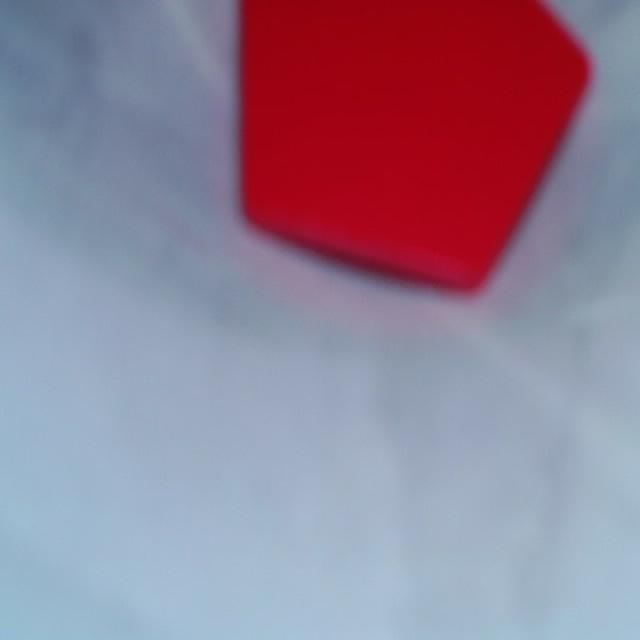pentagon: (241, 0, 588, 287)
